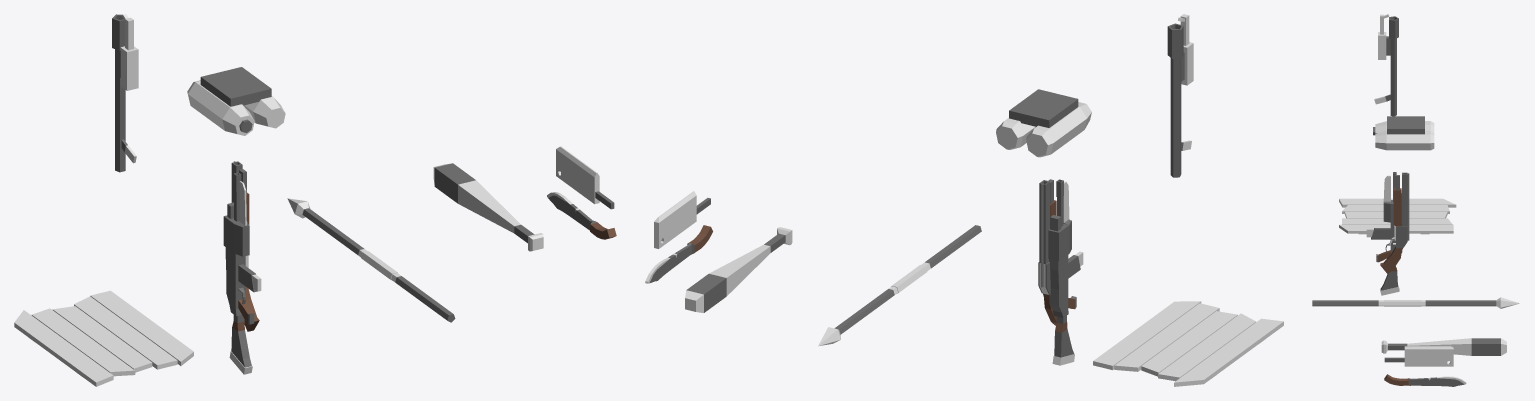
File: Props.fbx
The picture shows the model from 3 angles, left to right: view 1: azimuth 30°, elevation 25°; view 2: azimuth 150°, elevation 25°; view 3: azimuth 270°, elevation 25°; orthographic projection. The views are drawn at different scales.
Parts seen in each view (by area): view 1: Wooden Sheild, Flamethrower Backpack, Rifle, Bat, Flamethrower, Spear, Knife 2, Knife 1, Shotgun; view 2: Wooden Sheild, Flamethrower Backpack, Rifle, Flamethrower, Bat, Spear, Shotgun, Knife 2, Knife 1; view 3: Wooden Sheild, Flamethrower Backpack, Shotgun, Spear, Bat, Flamethrower, Knife 2, Rifle, Knife 1, Clip 1.
Part boxes in pixels (box(x1,y1,x2,y2)): Wooden Sheild: box(14, 290, 193, 386); Flamethrower Backpack: box(187, 67, 285, 135); Rifle: box(223, 172, 254, 374); Bat: box(433, 163, 543, 251); Flamethrower: box(112, 14, 138, 172); Spear: box(287, 198, 455, 322); Knife 2: box(556, 146, 614, 209); Knife 1: box(547, 192, 616, 239); Shotgun: box(231, 161, 259, 331); Wooden Sheild: box(1093, 301, 1283, 386); Flamethrower Backpack: box(996, 89, 1091, 157); Rifle: box(1048, 179, 1076, 365); Flamethrower: box(1167, 14, 1193, 177); Bat: box(685, 227, 792, 312); Spear: box(818, 225, 981, 346); Shotgun: box(1038, 179, 1056, 325); Knife 2: box(654, 191, 710, 248); Knife 1: box(645, 225, 712, 283); Wooden Sheild: box(1339, 198, 1456, 234); Flamethrower Backpack: box(1373, 116, 1434, 150); Shotgun: box(1380, 172, 1409, 274); Spear: box(1312, 297, 1519, 308); Bat: box(1381, 338, 1506, 355); Flamethrower: box(1374, 14, 1398, 116); Knife 2: box(1384, 346, 1453, 366); Rifle: box(1376, 172, 1402, 295); Knife 1: box(1384, 374, 1466, 386); Clip 1: box(1366, 228, 1390, 239).
Size of the model in its own units: 394 by 260 by 201.
